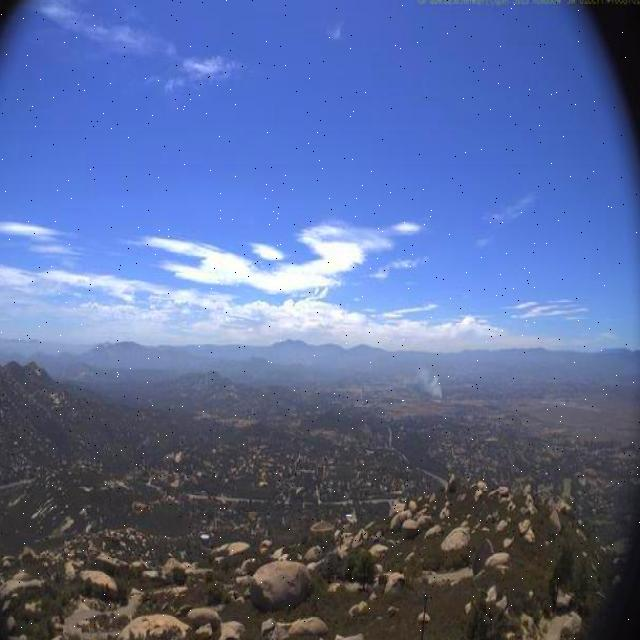smoke: (404, 349, 447, 403)
